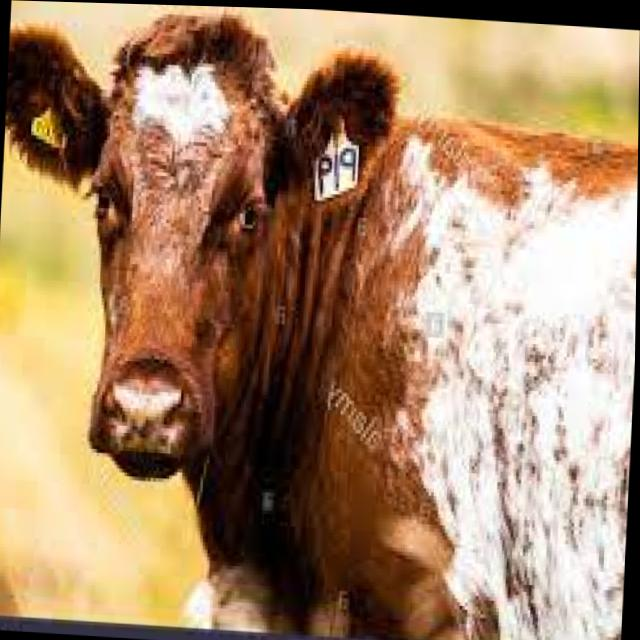cowFace: (0, 3, 433, 527)
